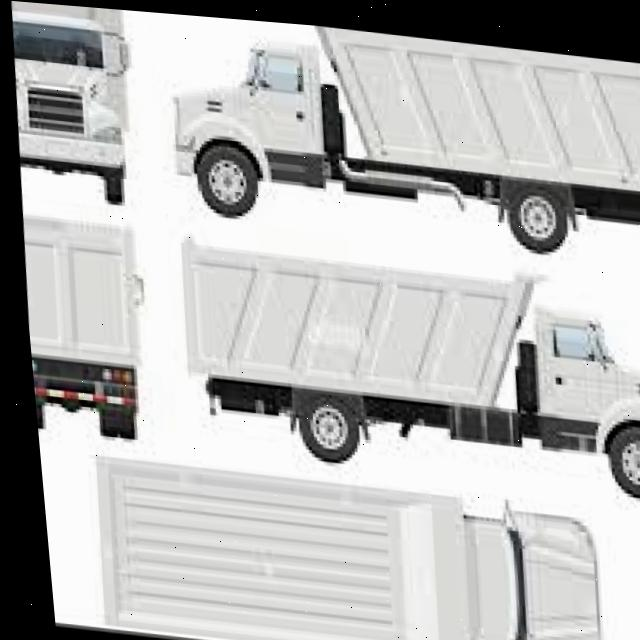truck: (165, 229, 640, 491), (155, 10, 640, 256), (77, 449, 600, 640), (14, 207, 154, 437), (4, 0, 136, 205)
